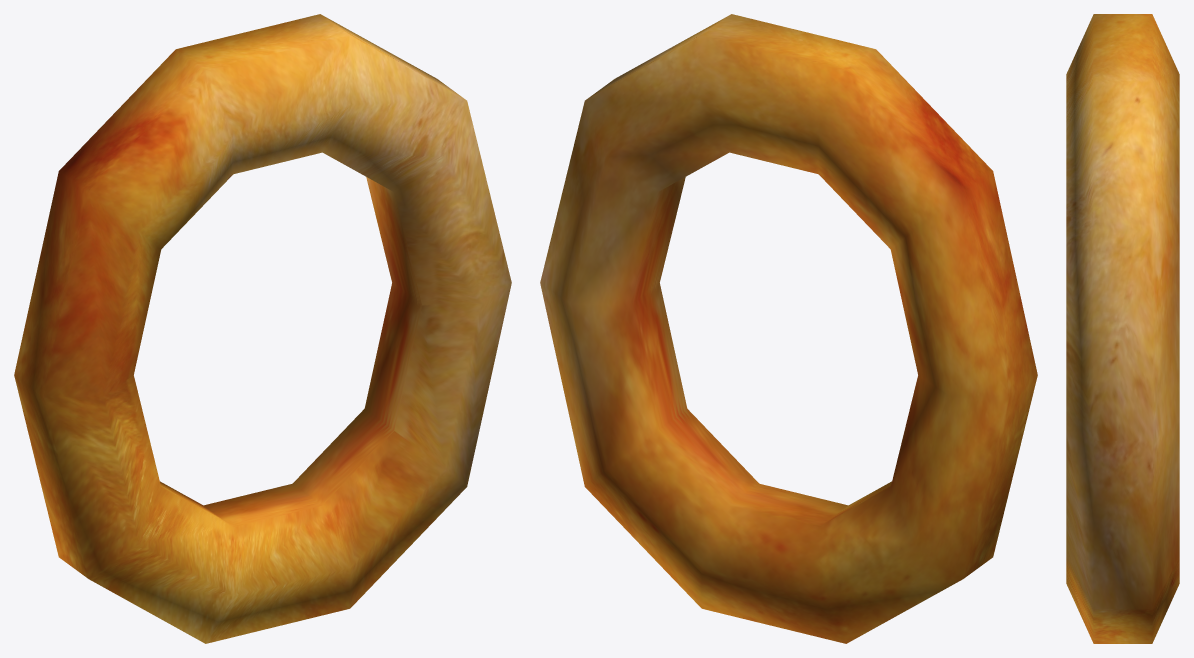
Rendered from FFHP_MOD_Onion_ring.fbx.
The picture shows the model from 3 angles, left to right: view 1: azimuth 30°, elevation 25°; view 2: azimuth 150°, elevation 25°; view 3: azimuth 270°, elevation 25°; orthographic projection. The views are drawn at different scales.
Parts seen in each view (by area): view 1: FFHP_MOD_Onion_ring; view 2: FFHP_MOD_Onion_ring; view 3: FFHP_MOD_Onion_ring.
Part boxes in pixels (left/top/right/bottom): FFHP_MOD_Onion_ring: left=14, top=14, right=511, bottom=643; FFHP_MOD_Onion_ring: left=540, top=14, right=1037, bottom=643; FFHP_MOD_Onion_ring: left=1066, top=14, right=1179, bottom=643.
Bounding box in the file's own units: 0.1252 × 0.1465 × 0.0269.
